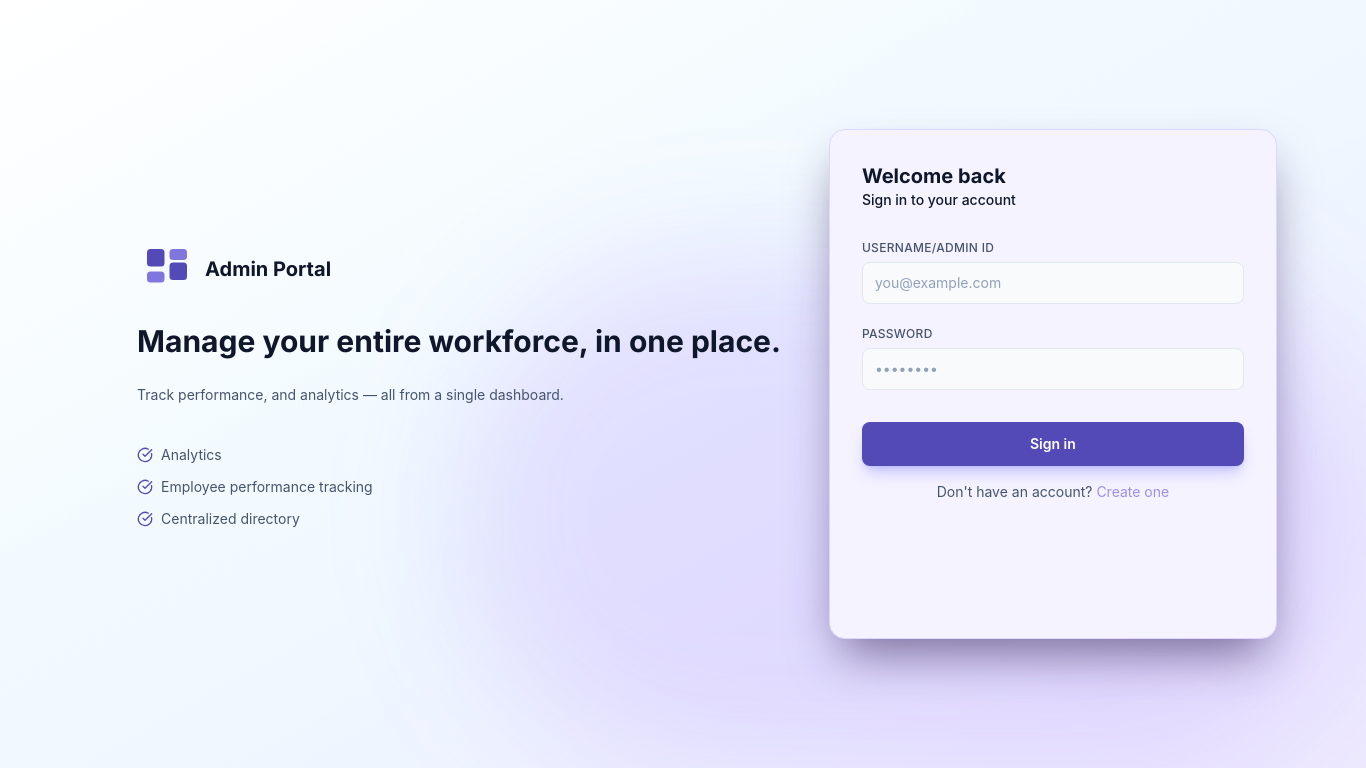
Test case: Renders the Form Error
Step 1. Click the button "Sign in" → x=1053, y=444, box 862,422 -> 1244,466
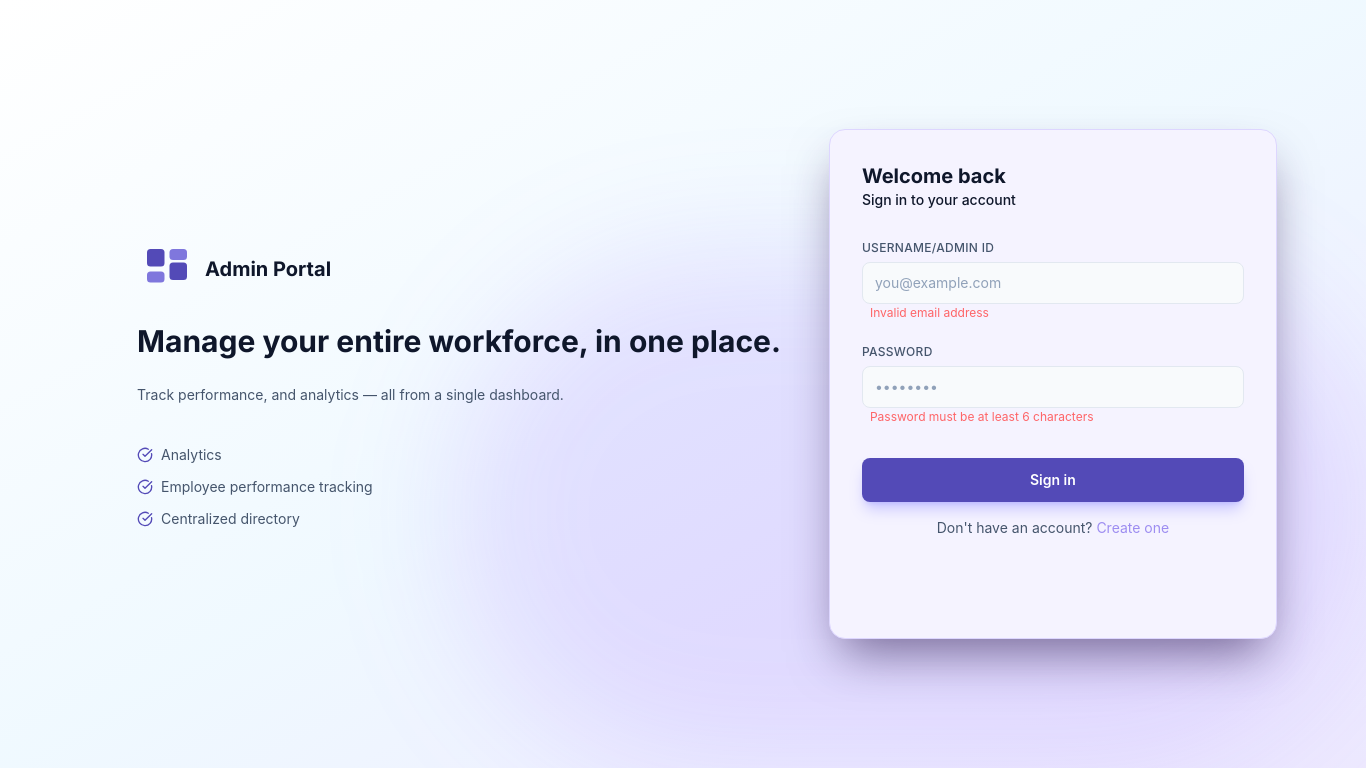
Now the text with id "email-error-message" reads "Invalid email address", box 870,305 -> 989,320
